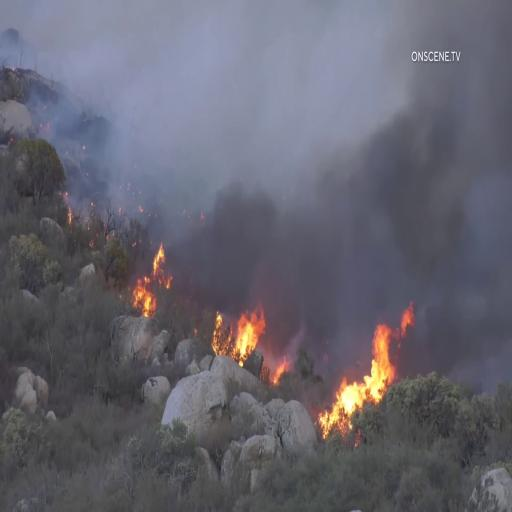fire: (330, 340, 405, 430), (214, 304, 278, 388), (116, 239, 164, 332)
smoke: (249, 99, 485, 291)
